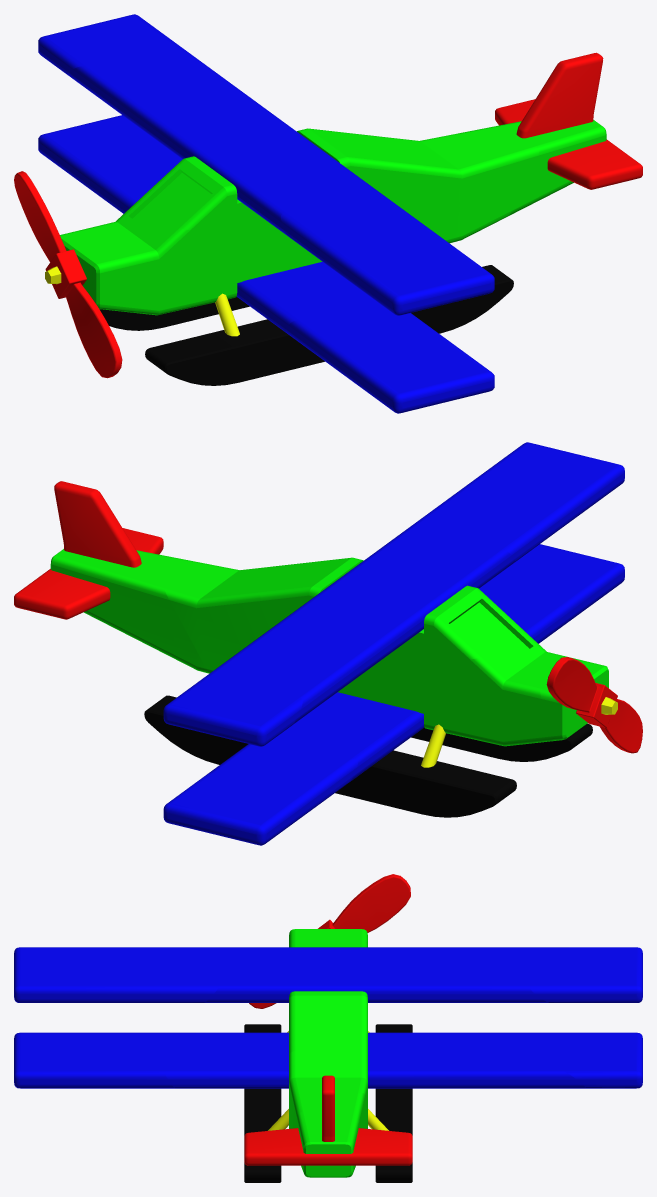
The model's file is Samol.FBX.
3 views of the same model, one above another, from view 1: azimuth 30°, elevation 25°; view 2: azimuth 150°, elevation 25°; view 3: azimuth 270°, elevation 25° (orthographic). The views are drawn at different scales.
Parts seen in each view (by area): view 1: Samol_08, Samol_00, Samol_03, Samol_06, Samol_04, Samol_07, Samol_05, Samol_01, Samol_02; view 2: Samol_00, Samol_08, Samol_07, Samol_03, Samol_06, Samol_01, Samol_04, Samol_02, Samol_05; view 3: Samol_08, Samol_00, Samol_03, Samol_04, Samol_07, Samol_06, Samol_01, Samol_02, Samol_05.
Part boxes in pixels (bbox=[...]): Samol_08: bbox=[67, 60, 425, 235]; Samol_00: bbox=[82, 151, 390, 385]; Samol_03: bbox=[281, 190, 494, 315]; Samol_06: bbox=[360, 133, 538, 333]; Samol_04: bbox=[286, 312, 494, 413]; Samol_07: bbox=[457, 52, 642, 216]; Samol_05: bbox=[14, 171, 153, 378]; Samol_01: bbox=[38, 115, 170, 212]; Samol_02: bbox=[38, 14, 198, 74]; Samol_00: bbox=[206, 628, 592, 817]; Samol_08: bbox=[229, 527, 520, 724]; Samol_07: bbox=[14, 481, 208, 673]; Samol_03: bbox=[410, 442, 624, 561]; Samol_06: bbox=[144, 553, 275, 764]; Samol_01: bbox=[163, 759, 357, 845]; Samol_04: bbox=[479, 544, 624, 643]; Samol_02: bbox=[163, 659, 302, 746]; Samol_05: bbox=[540, 653, 642, 753]; Samol_08: bbox=[205, 943, 568, 1055]; Samol_00: bbox=[165, 939, 585, 1117]; Samol_03: bbox=[14, 947, 219, 1002]; Samol_04: bbox=[14, 1032, 195, 1088]; Samol_07: bbox=[244, 1075, 412, 1177]; Samol_06: bbox=[244, 1033, 412, 1182]; Samol_01: bbox=[478, 1032, 642, 1088]; Samol_02: bbox=[530, 947, 642, 1002]; Samol_05: bbox=[249, 874, 410, 1008].
Bounding box in the file's own units: 17.49 × 5.88 × 19.75.
